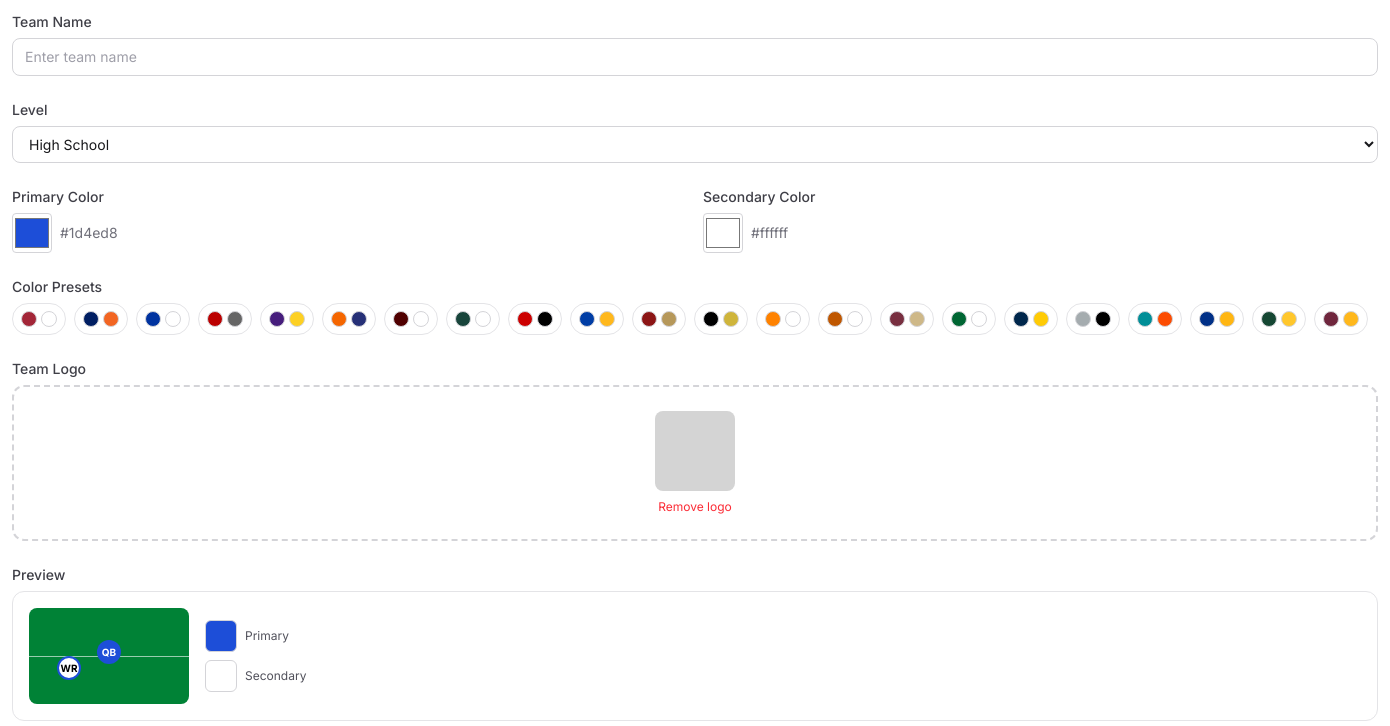
TeamBranding › removes logo when Remove logo is clicked
The width and height of the screenshot is (1390, 726).
Click the button with test id "remove-logo-button" at (695, 507), box [658,499,732,515]
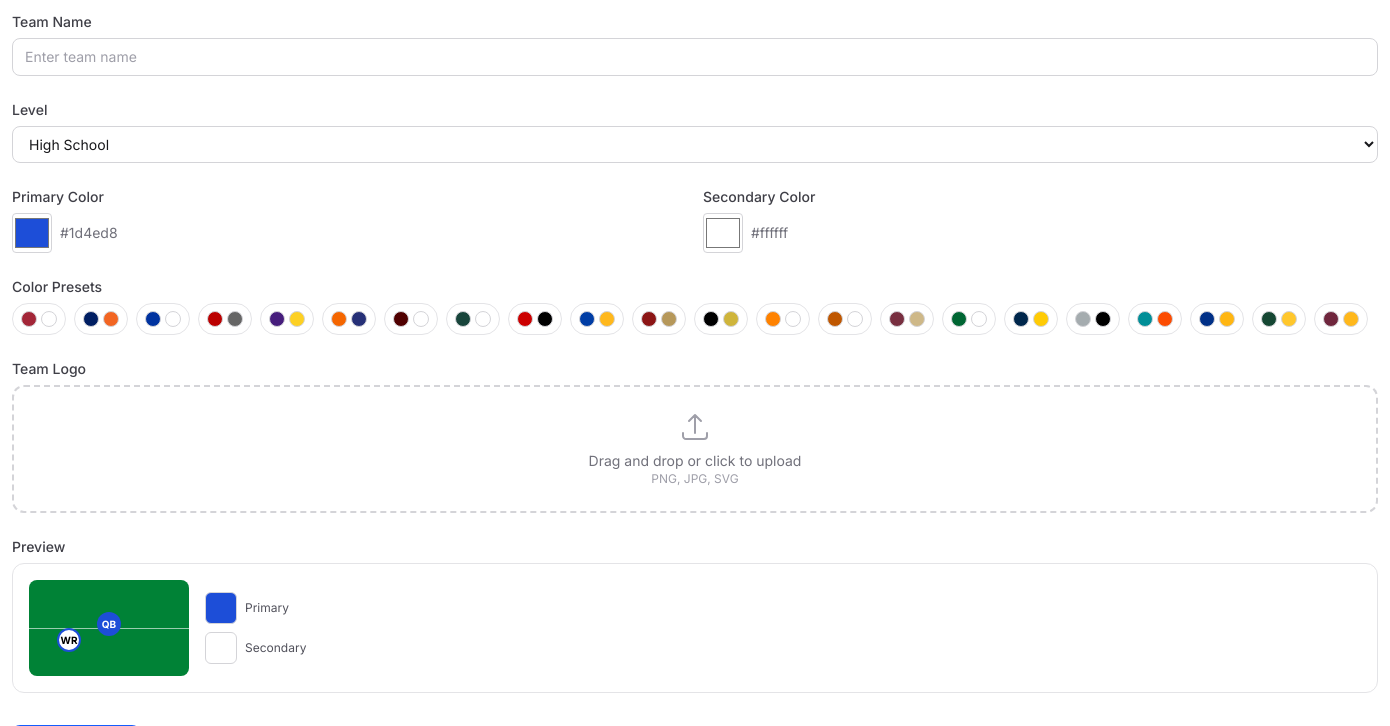
Result: the picture with test id "logo-preview" is gone
Result: the text "Drag and drop or click to upload" is shown at [588,451,801,471]
